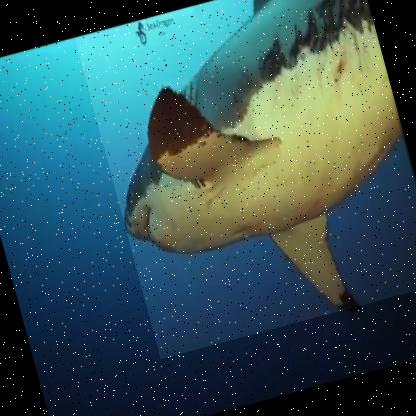white-shark: (75, 0, 415, 360)
